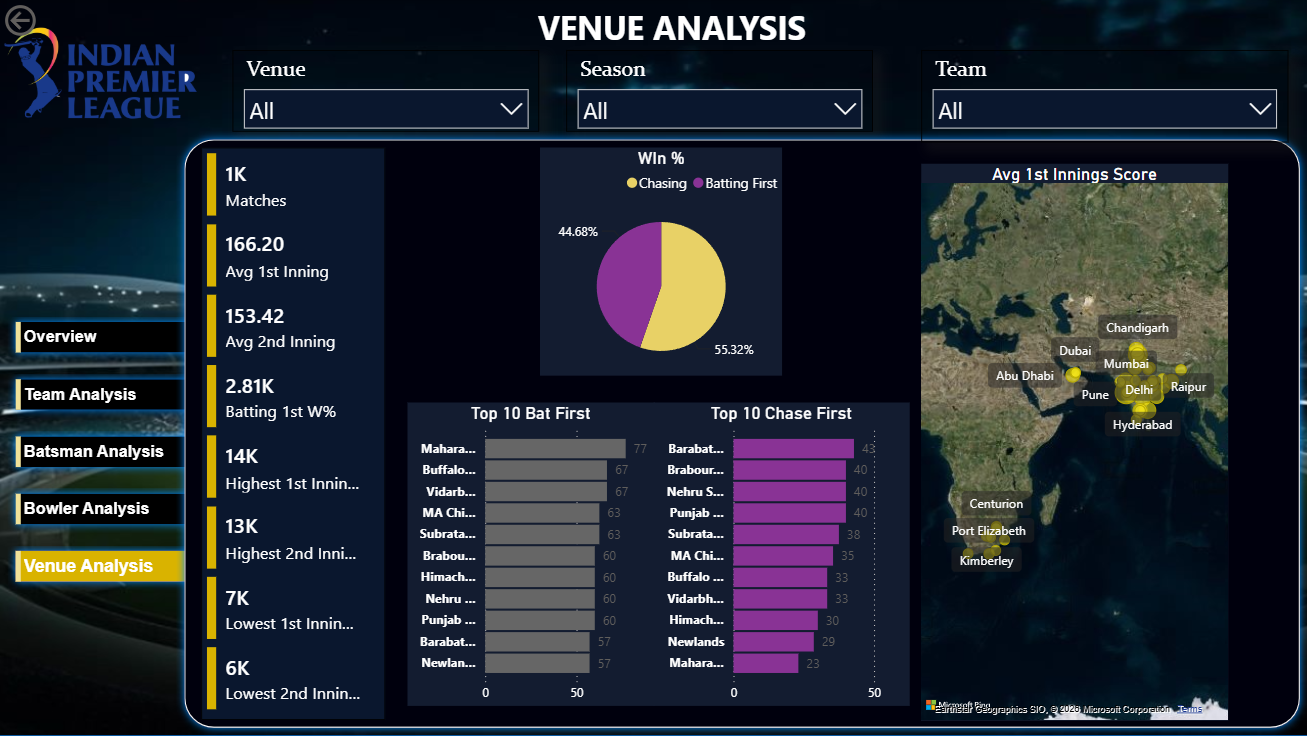

Layout of this report page (visuals, bound fields, positions):
{"tool":"powerbi","page":{"name":"Venue Analysis","canvas":[1280,720],"ordinal":4},"visuals":[{"type":"shape","box":[0,0,1280,720],"z":0},{"type":"image","box":[0,0,1280,719.3],"z":1000},{"type":"pageNavigator","title":"CONTENT","box":[7.6,307,184.8,273.4],"z":1500},{"type":"image","box":[0,0,196.9,143.1],"z":2000},{"type":"textbox","box":[461.3,0,392.6,53.5],"z":3000},{"type":"slicer","fields":{"Values":["Venues.venue"]},"box":[227.6,48.9,300,80],"z":4000},{"type":"slicer","fields":{"Values":["IPL_Player_Season_Team_Records.season"]},"box":[554.5,48.9,300,80],"z":5000},{"type":"actionButton","box":[0,0,100,40],"z":6000},{"type":"shape","box":[172.9,128.6,1107.1,591.4],"z":7000},{"type":"pieChart","title":"WIn %","fields":{"Y":["Sum(Venues.chasing_win_pct)","Sum(Venues.batting_first_win_pct)"]},"box":[528.6,144.3,237.1,222.9],"z":8000},{"type":"clusteredBarChart","title":"Top 10 Bat First","fields":{"Category":["Venues.venue"],"Y":["Avg(Venues.batting_first_win_pct)"]},"box":[398.6,394.3,241.4,297.1],"z":10000},{"type":"slicer","title":"Player","fields":{"Values":["TeamMatch.Team"]},"box":[901.2,48.9,358.9,90.1],"z":11000},{"type":"cardVisual","fields":{"Data":["Sum(Venues.matches)","Avg(Venues.avg_first_innings_score)","Avg(Venues.avg_second_innings_score)","Sum(Venues.batting_first_win_pct)","Sum(Venues.highest_first_innings_score)","Sum(Venues.highest_second_innings_score)","Sum(Venues.lowest_first_innings_score)","Sum(Venues.lowest_second_innings_score)"]},"box":[197.1,144.3,180,560],"z":12000},{"type":"map","title":"Avg 1st Innings Score","fields":{"Category":["Venues.city"],"Size":["Sum(Venues.avg_first_innings_score)"]},"box":[901.4,160,300,544.3],"z":13000},{"type":"clusteredBarChart","title":"Top 10 Chase First","fields":{"Category":["Venues.venue"],"Y":["Sum(Venues.chasing_win_pct)"]},"box":[640,394.3,250,297.1],"z":13001}]}

Visuals, with their boxes in screenshot pixels (x1, y1, x2, y2), scaled from the page's 1280x720 canvas onto the 1307x736 screenshot:
shape: x1=0 y1=0 x2=1306 y2=735
image: x1=0 y1=0 x2=1306 y2=735
"CONTENT" pageNavigator: x1=8 y1=314 x2=196 y2=593
image: x1=0 y1=0 x2=201 y2=146
textbox: x1=471 y1=0 x2=872 y2=55
slicer - Venues.venue: x1=232 y1=50 x2=539 y2=132
slicer - IPL_Player_Season_Team_Records.season: x1=566 y1=50 x2=873 y2=132
actionButton: x1=0 y1=0 x2=102 y2=41
shape: x1=177 y1=131 x2=1306 y2=735
"WIn %" pieChart: x1=540 y1=148 x2=782 y2=375
"Top 10 Bat First" clusteredBarChart: x1=407 y1=403 x2=654 y2=707
"Player" slicer: x1=920 y1=50 x2=1287 y2=142
cardVisual - Sum(Venues.matches) x Avg(Venues.avg_first_innings_score): x1=201 y1=148 x2=385 y2=720
"Avg 1st Innings Score" map: x1=920 y1=164 x2=1227 y2=720
"Top 10 Chase First" clusteredBarChart: x1=654 y1=403 x2=909 y2=707
